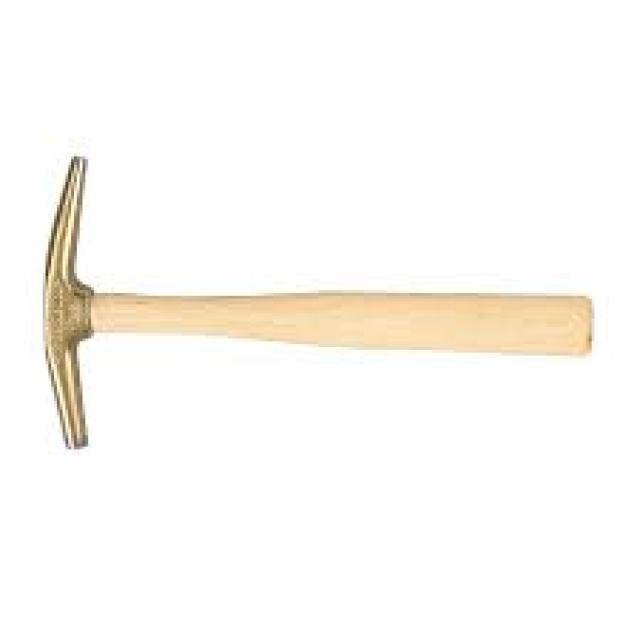Palu: (22, 142, 610, 458)
